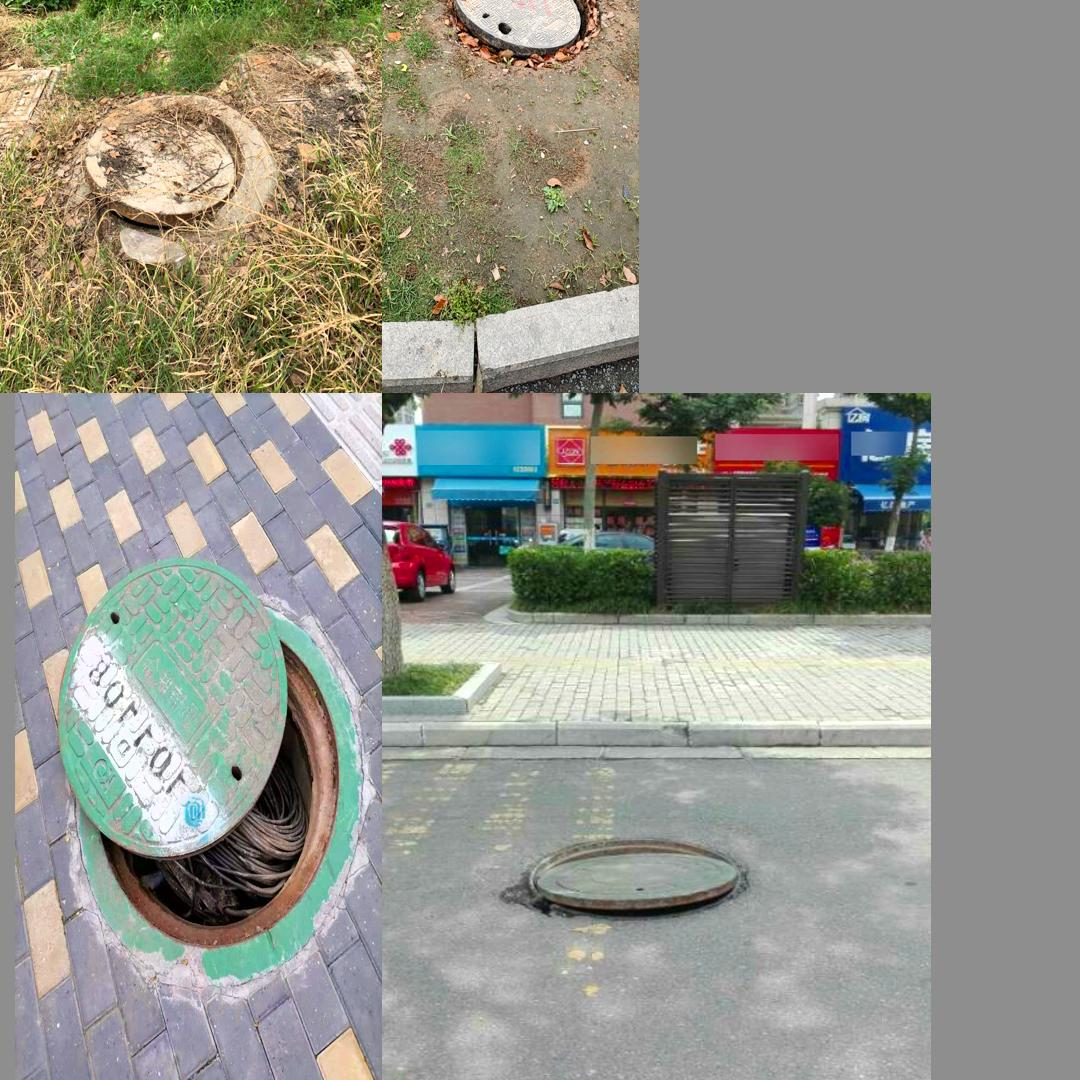uncovered: (55, 559, 361, 987), (509, 812, 755, 913), (84, 105, 244, 225), (449, 0, 598, 59)
